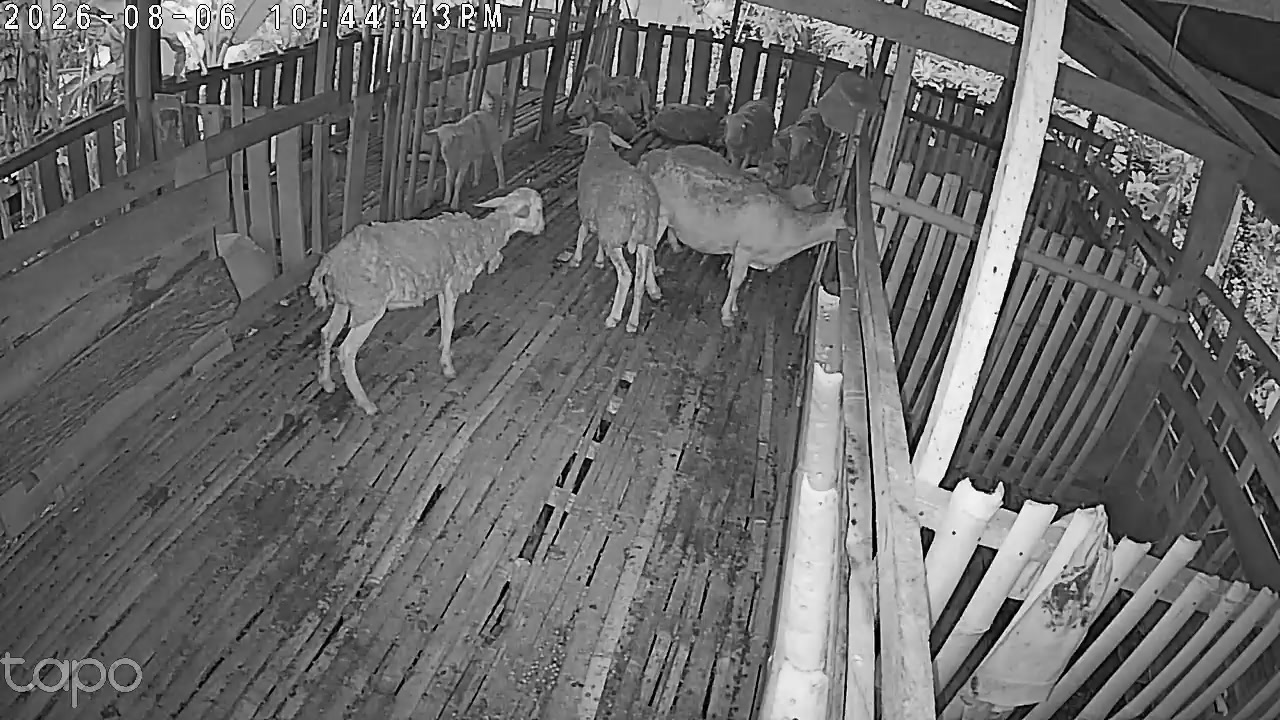sheep: (310, 190, 565, 420), (640, 145, 845, 330), (570, 120, 665, 335), (425, 108, 505, 203), (720, 100, 785, 170)
